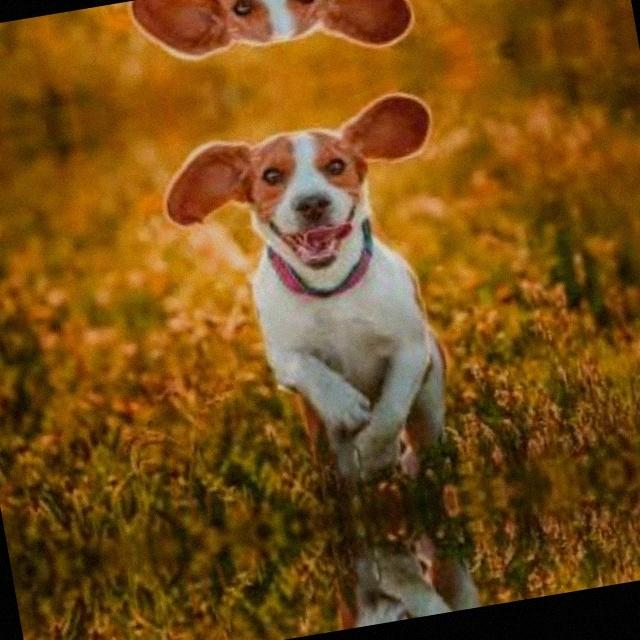dog: (147, 78, 478, 520), (224, 515, 501, 640), (126, 0, 404, 98)
